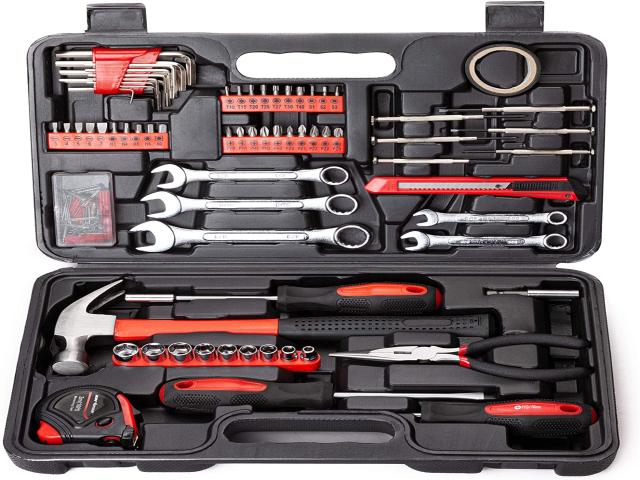Hammer: (52, 280, 488, 376)
Needle-nose pliers: (329, 333, 592, 382)
Screwdriver: (160, 378, 496, 412), (121, 282, 445, 315), (421, 400, 597, 436)
Tape measure: (35, 385, 140, 449)
Utility knife: (366, 177, 587, 201)
Wrench: (130, 220, 371, 252), (141, 191, 359, 218), (151, 164, 350, 189), (401, 231, 568, 251), (414, 209, 568, 227)
